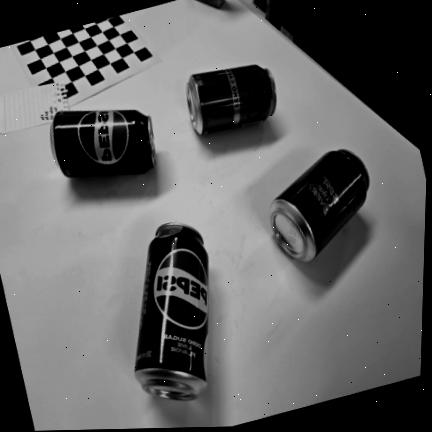can_coke_decaf: (186, 64, 275, 134)
can_coke_zero: (269, 149, 369, 261)
can_pepsi: (50, 108, 155, 176)
can_pepsi_zero: (134, 222, 209, 400)
